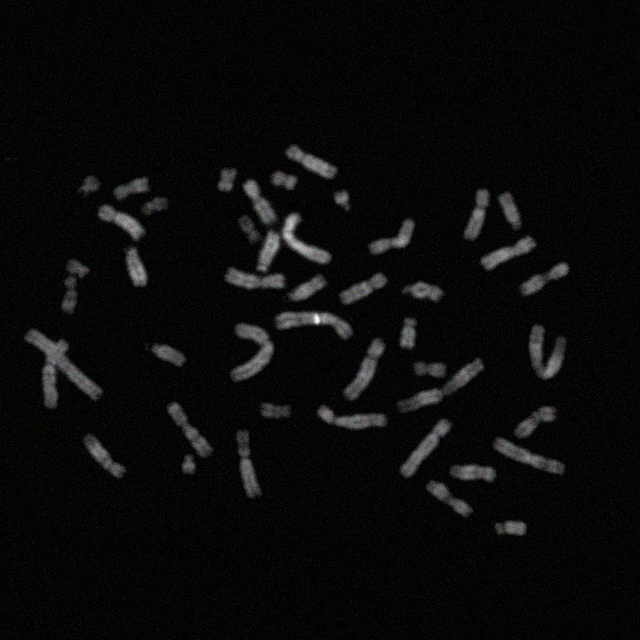chromosome: (26, 329, 100, 399), (395, 361, 487, 414), (402, 418, 452, 478), (494, 436, 566, 476), (228, 323, 274, 381), (281, 213, 331, 263), (344, 338, 384, 400), (168, 402, 212, 456), (278, 309, 354, 339), (526, 324, 566, 380), (43, 336, 69, 414), (481, 238, 537, 272), (236, 430, 264, 498), (316, 405, 388, 431), (368, 219, 418, 255), (286, 144, 338, 178), (83, 434, 125, 476), (98, 204, 144, 242), (520, 262, 570, 296), (427, 480, 473, 516), (339, 274, 389, 306), (223, 267, 285, 291), (243, 178, 275, 224), (515, 406, 555, 440), (464, 189, 491, 239), (288, 275, 328, 303), (257, 232, 281, 274), (401, 280, 443, 304), (450, 460, 494, 482), (114, 176, 150, 202), (499, 193, 523, 231), (151, 343, 187, 367), (125, 248, 146, 288), (58, 276, 78, 314), (412, 360, 448, 380), (260, 400, 292, 422), (494, 518, 526, 538), (214, 168, 240, 192), (398, 317, 418, 348), (238, 216, 260, 242), (333, 188, 351, 215), (80, 176, 102, 198), (66, 256, 88, 278), (274, 171, 296, 191), (181, 456, 199, 476), (144, 197, 166, 213)
